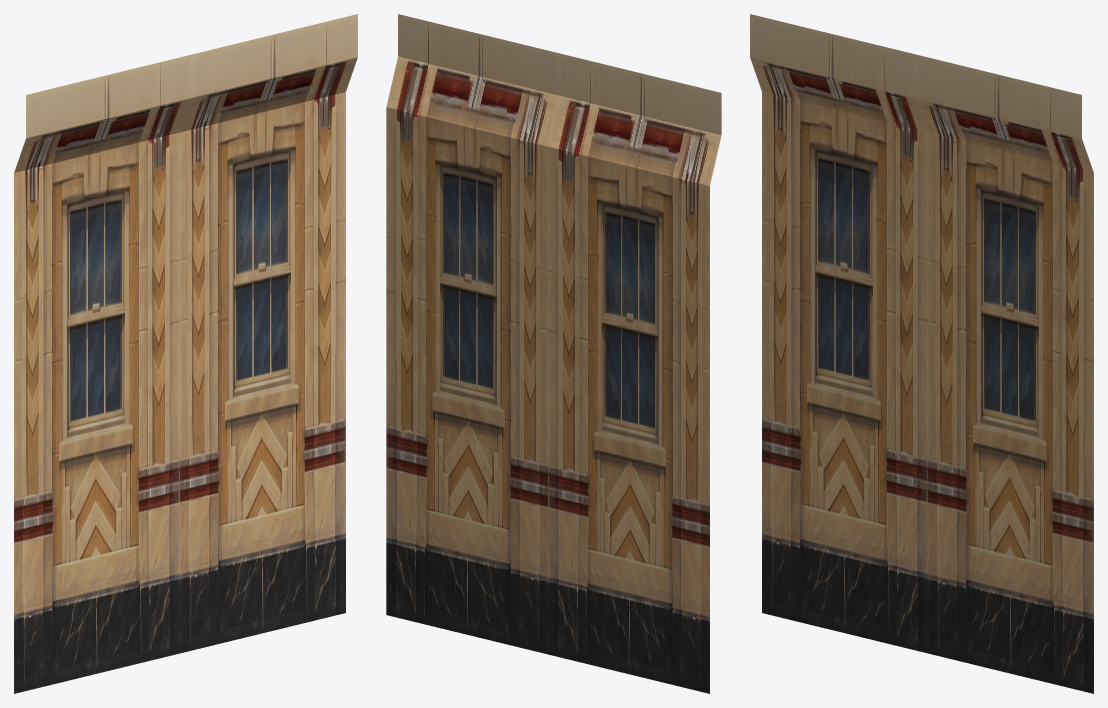
Rendered from DECO_U_Bay2B.fbx.
3 views of the same model, side by side, from view 1: azimuth 30°, elevation 25°; view 2: azimuth 150°, elevation 25°; view 3: azimuth 330°, elevation 25° (orthographic). The views are drawn at different scales.
Parts seen in each view (by area): view 1: DECO_U_Bay2B; view 2: DECO_U_Bay2B; view 3: DECO_U_Bay2B.
Boxes of the visible parts, x1,y1,x2,y2 form: DECO_U_Bay2B: (14, 14, 357, 693); DECO_U_Bay2B: (386, 14, 721, 693); DECO_U_Bay2B: (750, 14, 1093, 693).
Size of the model in its own units: 2 by 0.125 by 3.5.
1 material, 1 textured.
